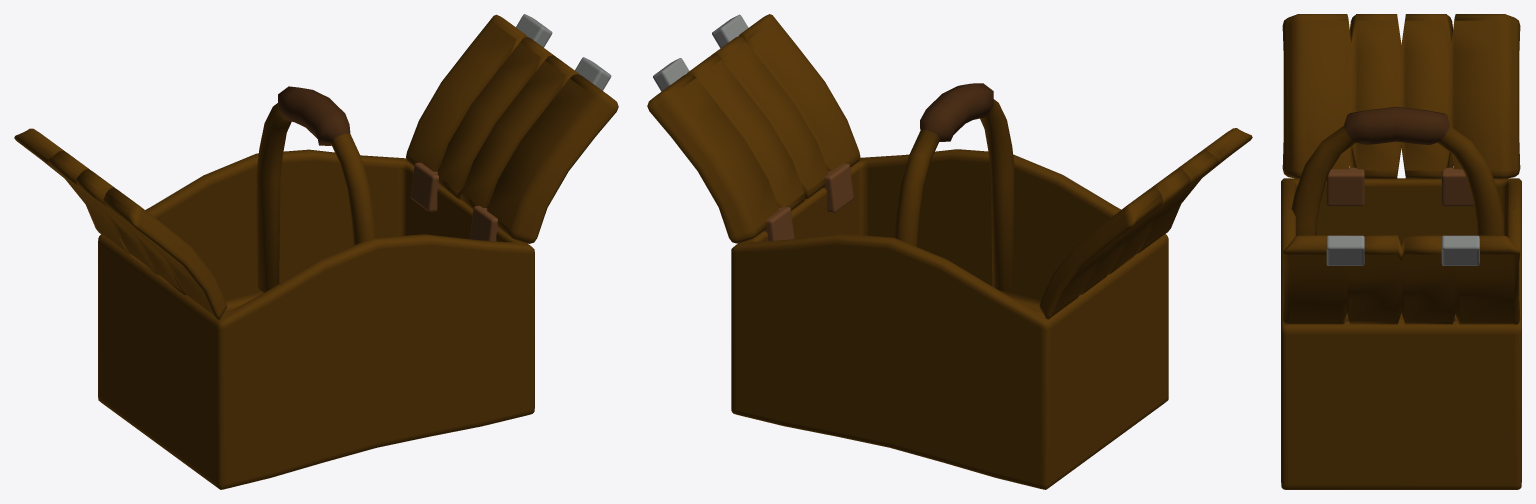
The model's file is SM_Picknickkorb.fbx.
3 views of the same model, side by side, from view 1: azimuth 30°, elevation 25°; view 2: azimuth 150°, elevation 25°; view 3: azimuth 270°, elevation 25° (orthographic). The views are drawn at different scales.
Visible parts, largest first — view 1: Picknickkorb.001; view 2: Picknickkorb.001; view 3: Picknickkorb.001.
Part boxes in pixels (x1,y1,x2,y2): Picknickkorb.001: [14, 14, 618, 489]; Picknickkorb.001: [647, 14, 1252, 489]; Picknickkorb.001: [1281, 14, 1521, 489].
Size of the model in its own units: 126 by 75.86 by 53.88.
